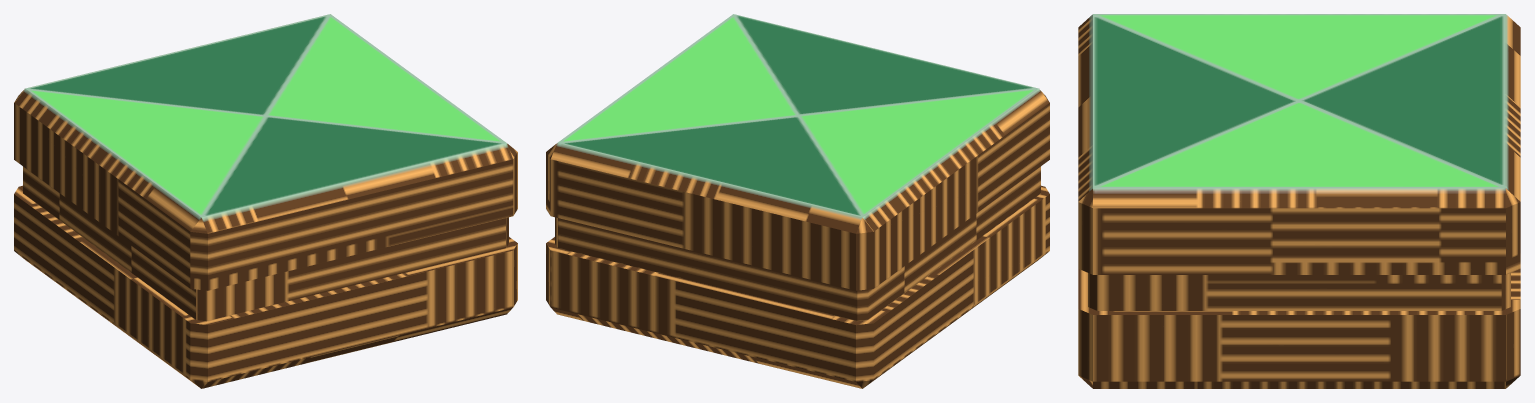
Rendered from tile.fbx.
3 renders of one model, left to right at view 1: azimuth 30°, elevation 25°; view 2: azimuth 150°, elevation 25°; view 3: azimuth 270°, elevation 25°, orthographic. The views are drawn at different scales.
Visible parts, largest first — view 1: Cube.097; view 2: Cube.097; view 3: Cube.097.
Part boxes in pixels (<box>): Cube.097: <box>14,14,517,388</box>; Cube.097: <box>546,14,1049,388</box>; Cube.097: <box>1078,14,1520,388</box>.
Size of the model in its own units: 200 by 100 by 200.
